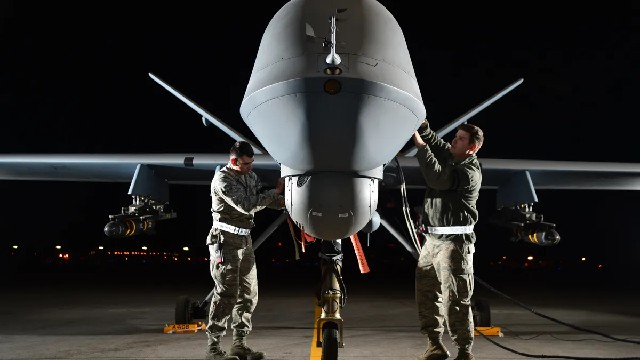maybay_khongnguoilai: (2, 3, 639, 274)
